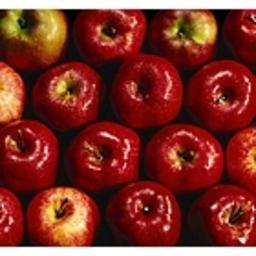apple: (64, 121, 148, 192), (111, 55, 183, 132), (30, 61, 106, 132), (146, 126, 222, 193), (111, 182, 187, 246), (187, 61, 256, 130), (25, 188, 100, 247), (1, 124, 63, 195), (1, 9, 68, 74), (186, 184, 255, 246), (70, 9, 145, 65), (147, 9, 216, 69), (217, 7, 256, 67), (223, 124, 256, 192), (1, 60, 25, 126)
